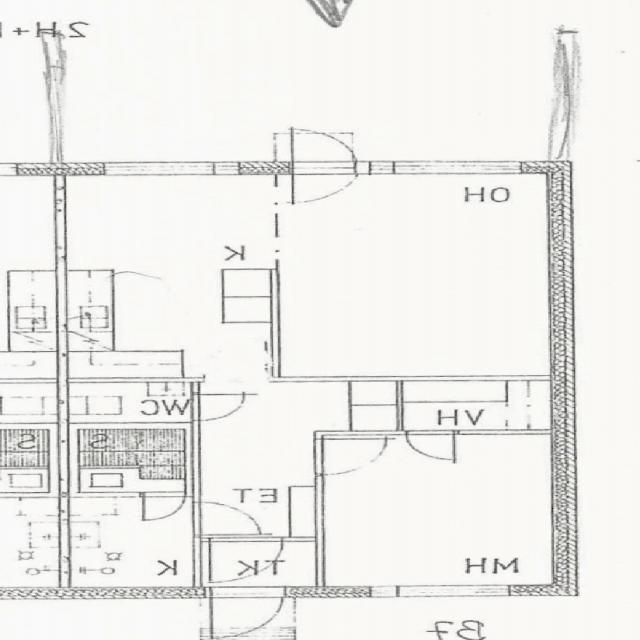door: (210, 585, 284, 638), (292, 162, 357, 212), (292, 124, 357, 174), (210, 537, 280, 581), (314, 440, 384, 474), (194, 502, 256, 534), (407, 430, 456, 462), (193, 394, 246, 420), (143, 492, 186, 522)
